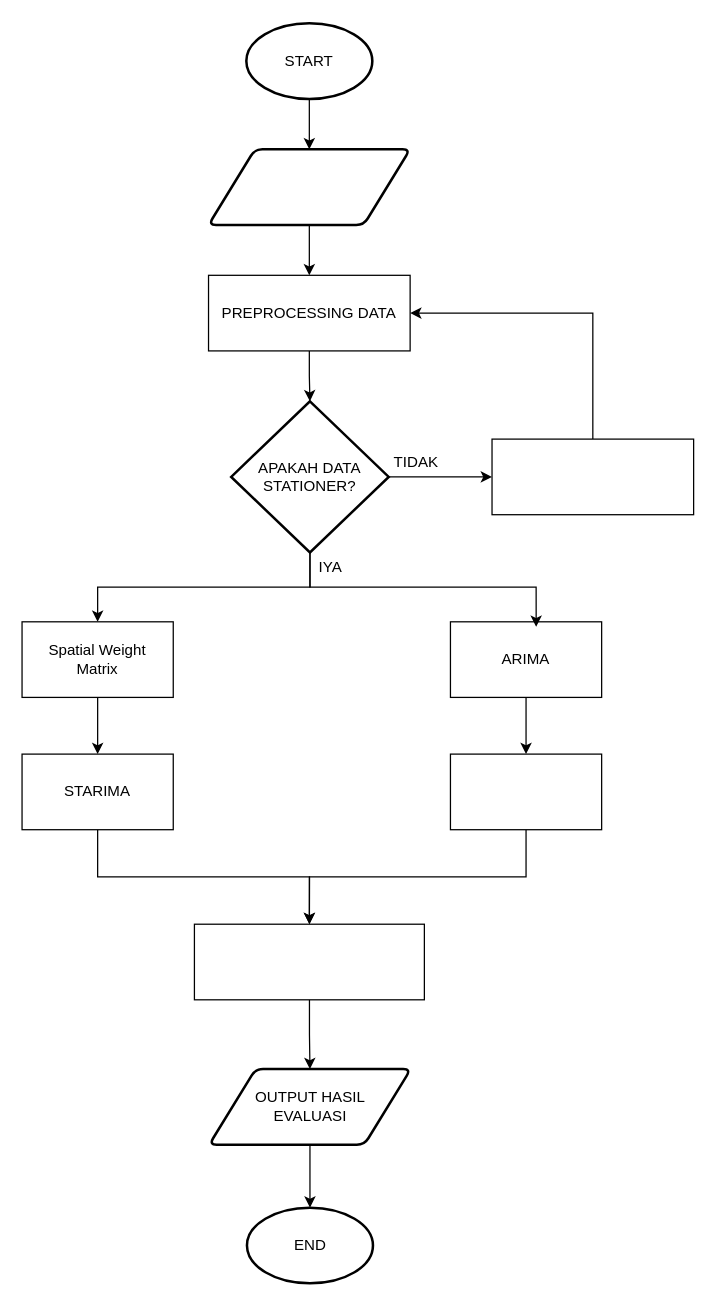
Some shapes in this 716 by 1305 pixel diagram are drawn without their labels. Each missing label, with the box of its shape:
ARIMA MASING MASING WILAYAH: (449, 753, 602, 830)
DIFFERENCING: (491, 438, 694, 515)
EVALUASI MODEL: (193, 923, 424, 1000)
INPUT DATA RAW: (207, 147, 411, 226)
